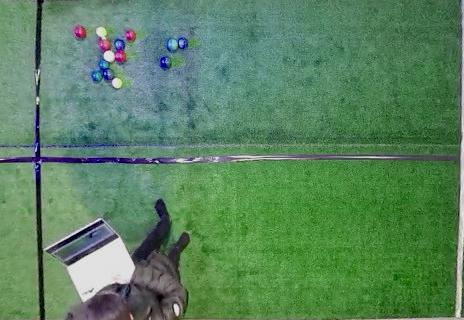blue: (114, 40, 124, 49), (179, 38, 187, 49)
green: (161, 57, 172, 68), (103, 69, 114, 80), (168, 39, 178, 51), (92, 72, 102, 81), (99, 61, 109, 69)
red: (75, 26, 86, 38), (99, 39, 110, 50), (126, 30, 136, 41), (115, 52, 126, 62), (104, 51, 115, 61)
vline: (1, 1, 47, 319), (453, 1, 463, 319)
white: (102, 36, 106, 40)
yellow: (96, 27, 107, 37), (112, 78, 122, 88)
